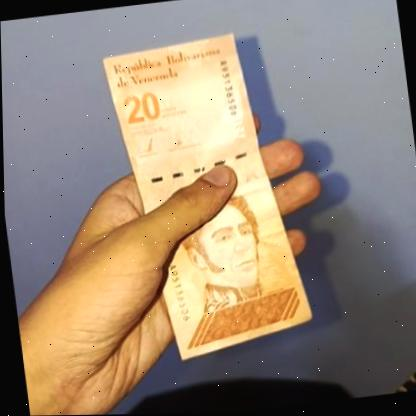twenty-front-vef: (99, 28, 314, 366)
